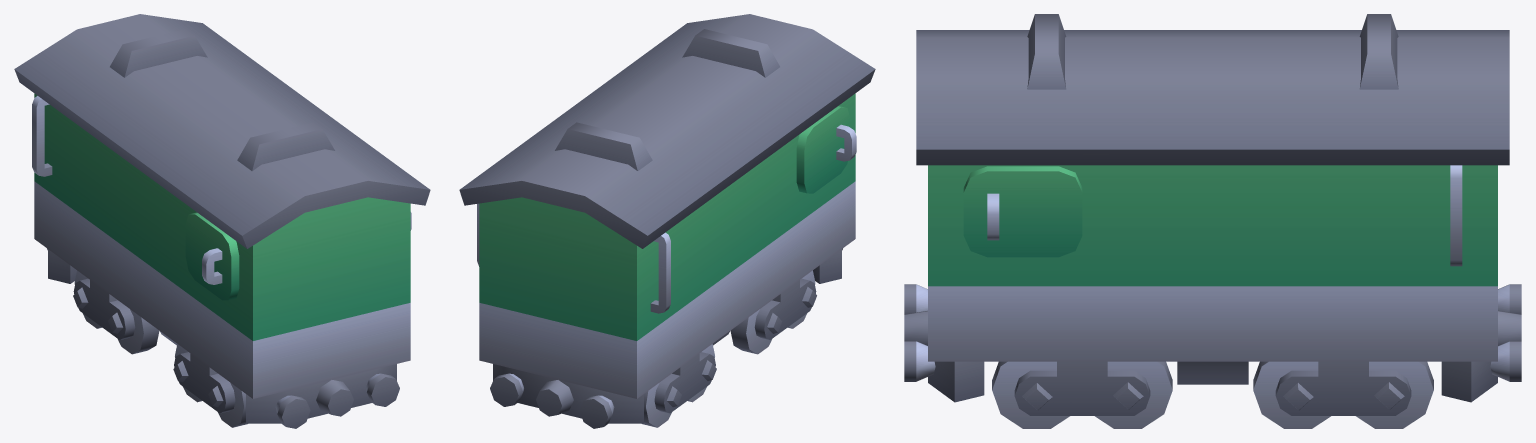
The model's file is kenney-train-train-diesel-box-b.glb.
The picture shows the model from 3 angles, left to right: view 1: azimuth 30°, elevation 25°; view 2: azimuth 150°, elevation 25°; view 3: azimuth 270°, elevation 25°; orthographic projection. The views are drawn at different scales.
Visible parts, largest first — view 1: train-diesel-box-b; view 2: train-diesel-box-b; view 3: train-diesel-box-b.
Part boxes in pixels (x1,y1,x2,y2): train-diesel-box-b: [14, 14, 430, 428]; train-diesel-box-b: [459, 14, 875, 428]; train-diesel-box-b: [904, 14, 1521, 428].
Bounding box in the file's own units: 1.3 × 1.65 × 2.6.
1 material, 1 textured.
